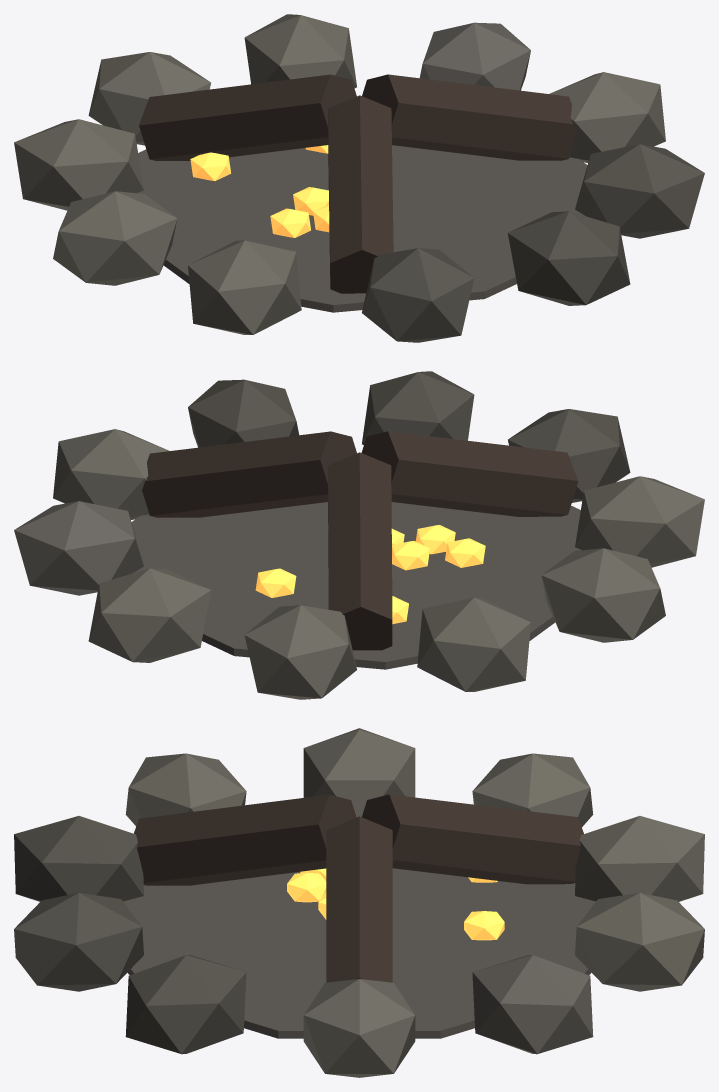
File: campfire.glb
3 views of the same model, one above another, from view 1: azimuth 30°, elevation 25°; view 2: azimuth 150°, elevation 25°; view 3: azimuth 270°, elevation 25° (orthographic). The views are drawn at different scales.
Visible parts, largest first — view 1: ash bed, burning log, burning log.001, burning log.002, hearth stone.009, hearth stone.005, hearth stone.008, hearth stone.004, hearth stone.006, hearth stone.007, hearth stone, hearth stone.002 (+5 smaller); view 2: ash bed, burning log.002, burning log, burning log.001, hearth stone.001, hearth stone.005, hearth stone.002, hearth stone.006, hearth stone.004, hearth stone.003, hearth stone, hearth stone.008 (+6 smaller); view 3: ash bed, burning log.002, burning log.001, burning log, hearth stone.002, hearth stone.008, hearth stone.001, hearth stone.009, hearth stone.003, hearth stone, hearth stone.007, hearth stone.005 (+4 smaller).
Part boxes in pixels (x1,y1,x2,y2): ash bed: (137, 145, 587, 312); burning log: (362, 74, 576, 160); burning log.001: (139, 74, 356, 160); burning log.002: (328, 95, 393, 293); hearth stone.009: (575, 144, 704, 238); hearth stone.005: (53, 191, 177, 285); hearth stone.008: (507, 211, 630, 305); hearth stone.004: (14, 119, 143, 210); hearth stone.006: (188, 240, 301, 334); hearth stone.007: (362, 248, 474, 342); hearth stone: (549, 72, 665, 162); hearth stone.002: (244, 14, 356, 88); ash bed: (131, 502, 581, 669); burning log.002: (361, 431, 578, 516); burning log: (142, 431, 356, 517); burning log.001: (328, 452, 392, 650); hearth stone.001: (14, 501, 143, 595); hearth stone.005: (541, 548, 665, 642); hearth stone.002: (88, 568, 211, 662); hearth stone.006: (575, 476, 704, 567); hearth stone.004: (417, 597, 530, 691); hearth stone.003: (244, 605, 356, 699); hearth stone: (53, 429, 169, 519); hearth stone.008: (362, 371, 474, 444); ash bed: (123, 868, 595, 1038); burning log.002: (134, 794, 356, 885); burning log.001: (362, 794, 583, 884); burning log: (326, 816, 392, 982); hearth stone.002: (575, 893, 704, 991); hearth stone.008: (14, 893, 143, 991); hearth stone.001: (472, 955, 593, 1054); hearth stone.009: (125, 955, 246, 1054); hearth stone.003: (575, 816, 704, 901); hearth stone: (303, 979, 415, 1077); hearth stone.007: (14, 816, 143, 901); hearth stone.005: (303, 728, 415, 817).
Size of the model in its own units: 0.6652 by 0.153 by 0.6327.
